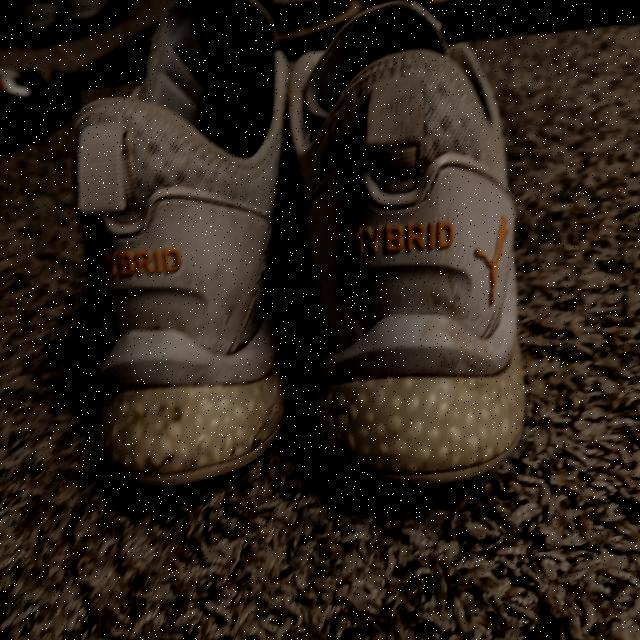white shoes: (59, 8, 515, 475)
